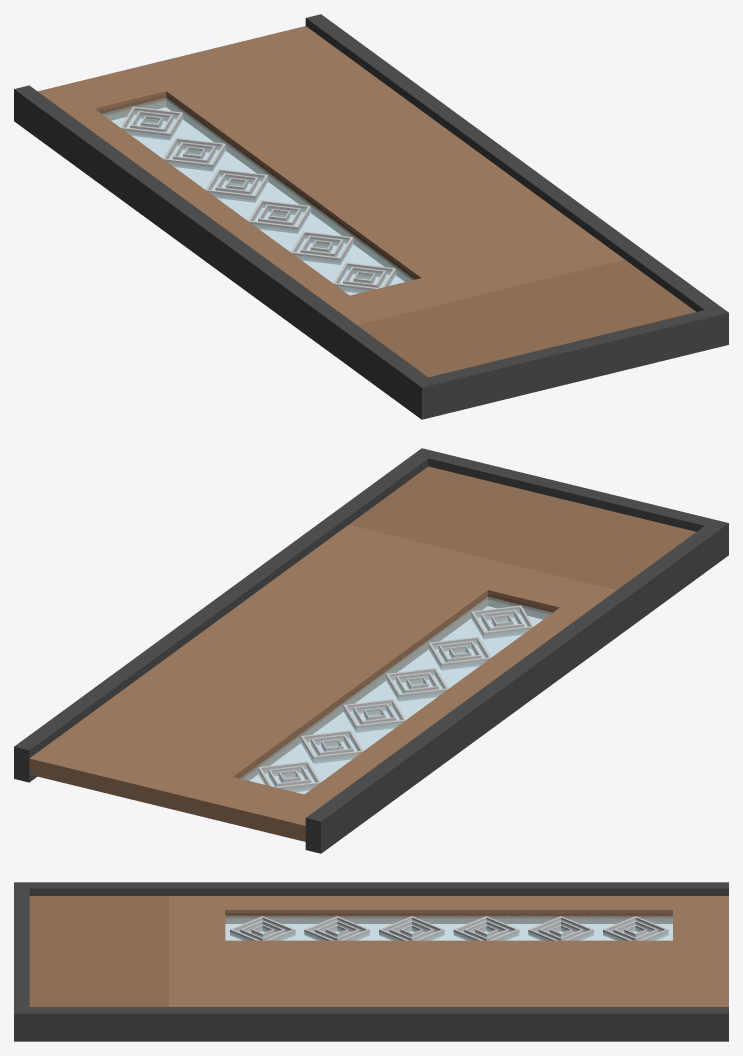
File: Parametric_Door_X_900mm.obj
3 views of the same model, one above another, from view 1: azimuth 30°, elevation 25°; view 2: azimuth 150°, elevation 25°; view 3: azimuth 270°, elevation 25° (orthographic). The views are drawn at different scales.
Parts seen in each view (by area): view 1: DOOR_LEAF, DOOR_FRAME, DOOR_TRANSOM, DOOR_GLASS, DOOR_DIAMONDS, DOOR_TRIM; view 2: DOOR_LEAF, DOOR_FRAME, DOOR_TRANSOM, DOOR_GLASS, DOOR_DIAMONDS; view 3: DOOR_LEAF, DOOR_FRAME, DOOR_TRANSOM, DOOR_GLASS, DOOR_DIAMONDS, DOOR_TRIM.
Boxes of the visible parts, x1,y1,x2,y2 form: DOOR_LEAF: (38,26,624,324); DOOR_FRAME: (14,14,728,419); DOOR_TRANSOM: (357,259,695,377); DOOR_GLASS: (102,98,413,295); DOOR_DIAMONDS: (120,106,395,292); DOOR_TRIM: (98,95,417,280); DOOR_LEAF: (29,525,616,841); DOOR_FRAME: (14,448,728,853); DOOR_TRANSOM: (349,466,695,590); DOOR_GLASS: (240,597,551,794); DOOR_DIAMONDS: (258,605,533,791); DOOR_LEAF: (169,896,728,1006); DOOR_FRAME: (14,882,728,1041); DOOR_TRANSOM: (29,896,169,1006); DOOR_GLASS: (225,916,672,940); DOOR_DIAMONDS: (230,916,668,940); DOOR_TRIM: (225,913,672,920).
Bounding box in the file's own units: 1000 × 100 × 2300.
